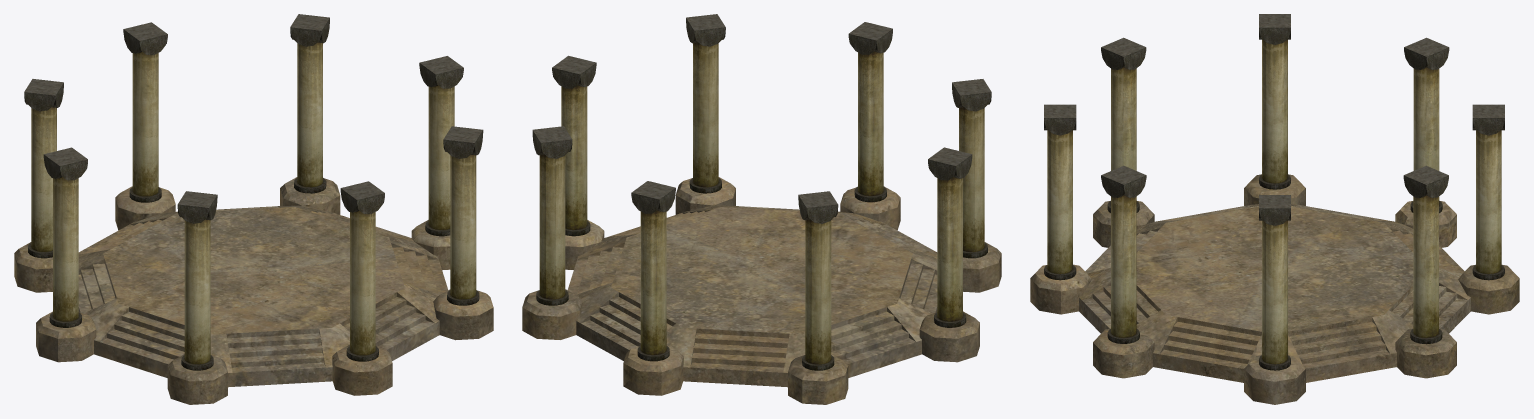
Rendered from pavillonfundament.fbx.
3 views of the same model, side by side, from view 1: azimuth 30°, elevation 25°; view 2: azimuth 150°, elevation 25°; view 3: azimuth 270°, elevation 25° (orthographic).
Parts seen in each view (by area): view 1: U3DMesh; view 2: U3DMesh; view 3: U3DMesh.
Part boxes in pixels (left/top/right/bottom): U3DMesh: left=14, top=14, right=493, bottom=404; U3DMesh: left=522, top=14, right=1001, bottom=404; U3DMesh: left=1030, top=14, right=1519, bottom=404.
Size of the model in its own units: 15.24 by 6.53 by 15.24.
Materials: 2 (2 with a texture image).
